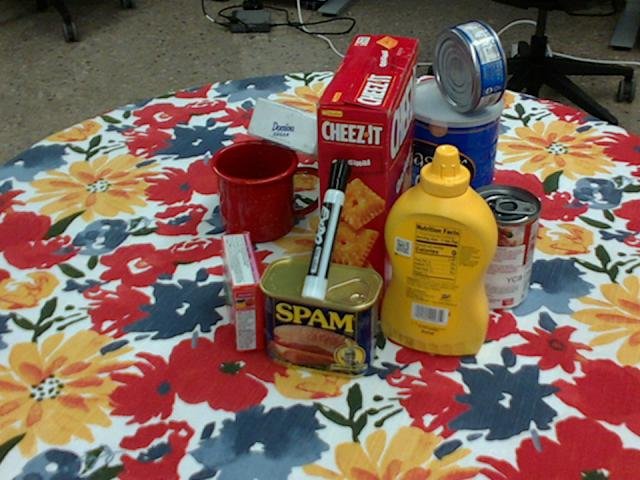cracker_box: (316, 34, 419, 314)
gelatin_box: (222, 231, 263, 351)
large_marker: (302, 157, 350, 300)
master_chef_can: (400, 78, 502, 238)
mug: (211, 139, 324, 243)
mustard_bottle: (381, 144, 498, 356)
potted_meat_can: (260, 256, 383, 378)
sugar_box: (249, 98, 398, 181)
tomato_soup_can: (460, 184, 541, 310)
tuna_fish_can: (431, 20, 506, 111)
